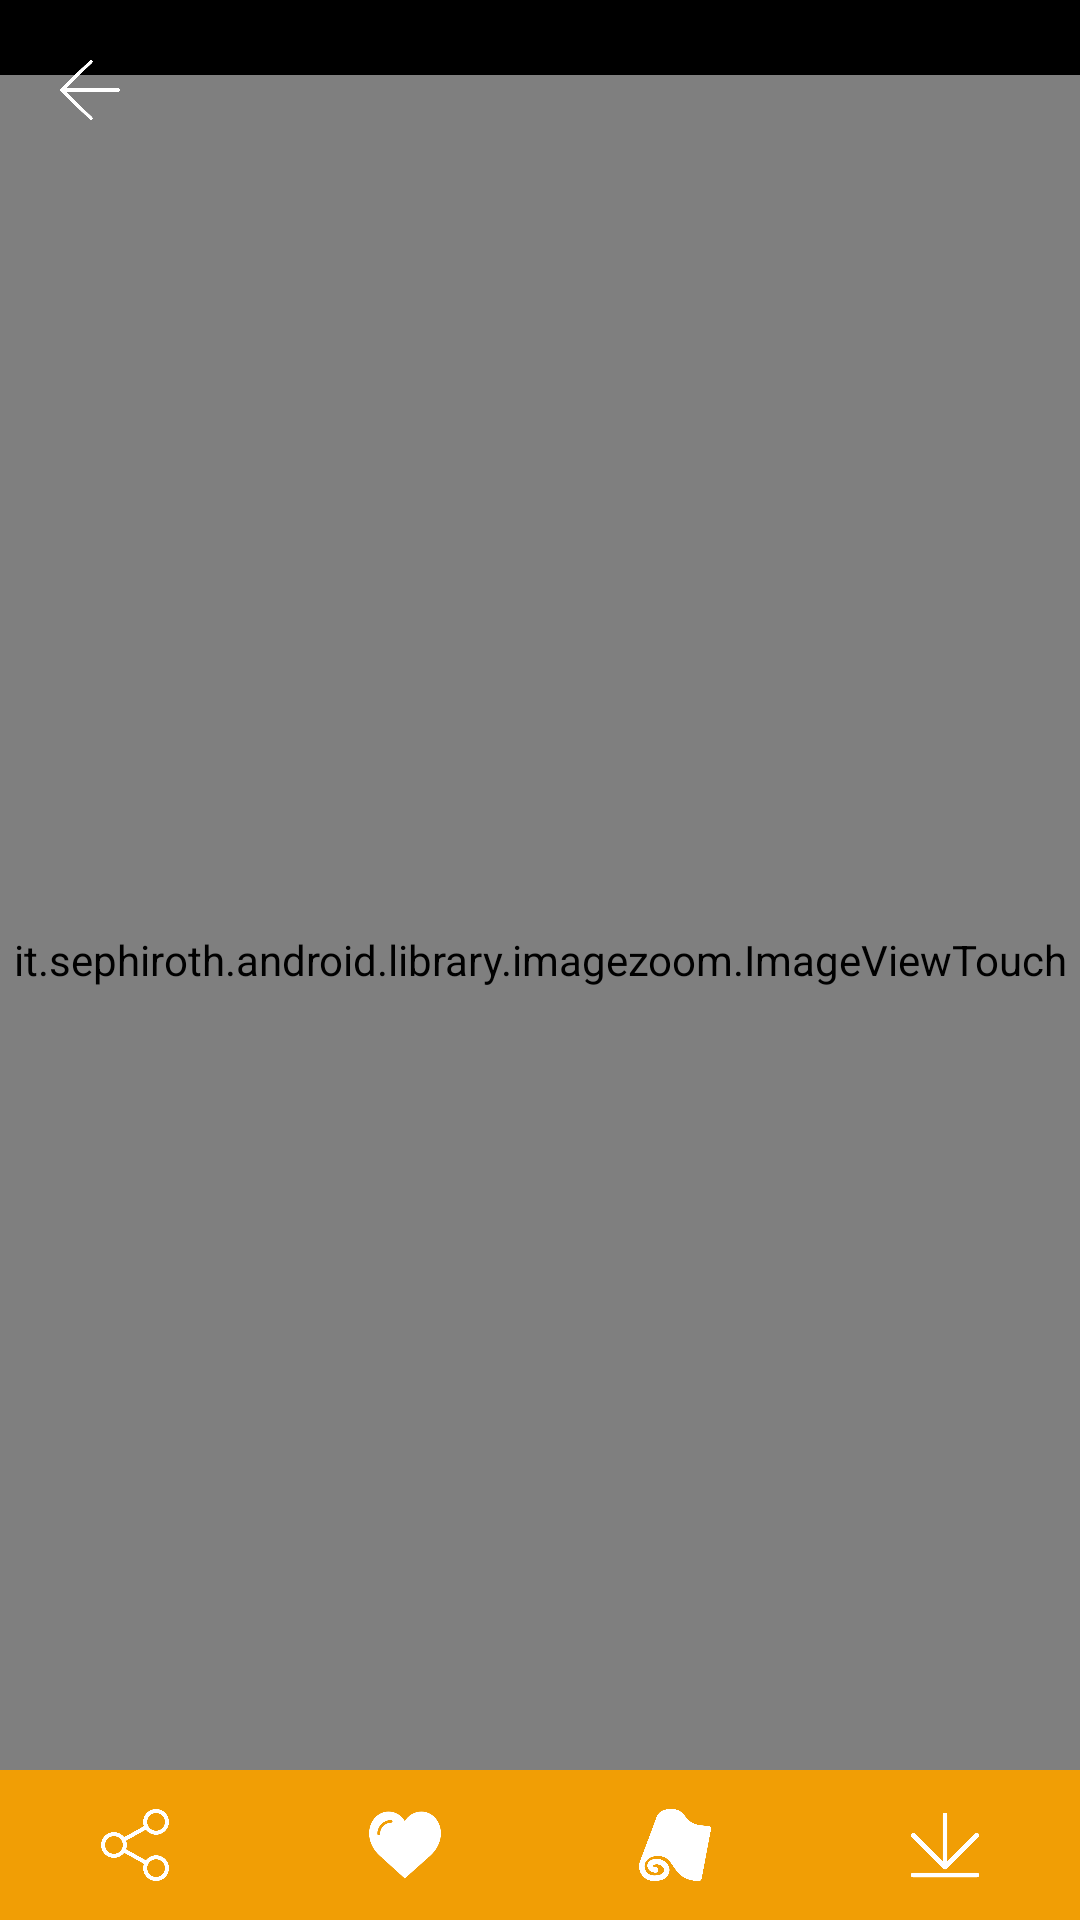

Point at icon controls on the screen. Image size 1080 x 1920, points as point (x, y).
back: point (90, 90)
download: point (945, 1845)
like: point (405, 1844)
share pic: point (135, 1845)
